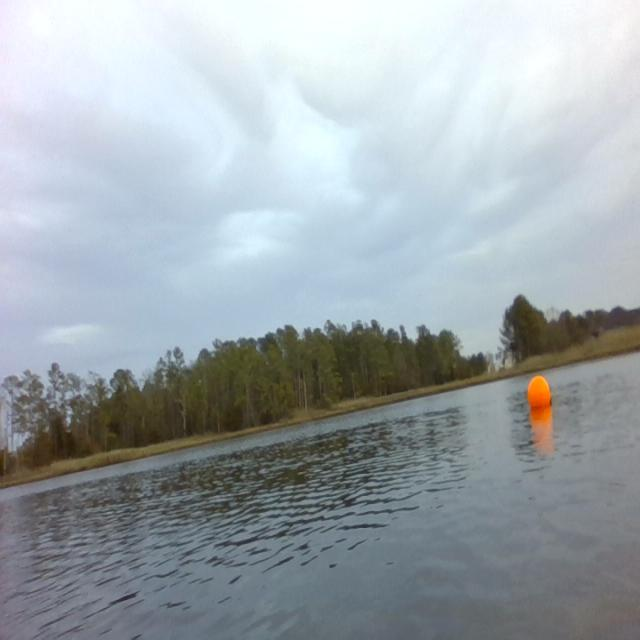Buoy: (525, 372, 554, 413)
